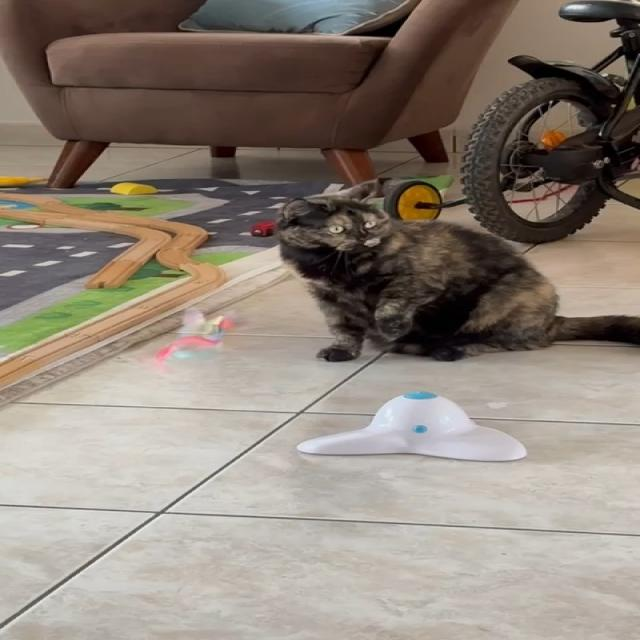authorized: (273, 185, 639, 362)
